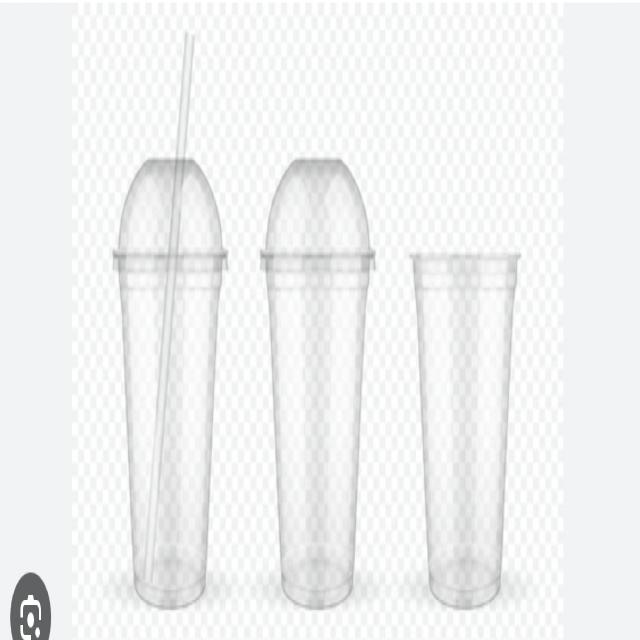recyclable: (250, 122, 387, 623), (106, 133, 232, 622), (400, 211, 528, 625)
